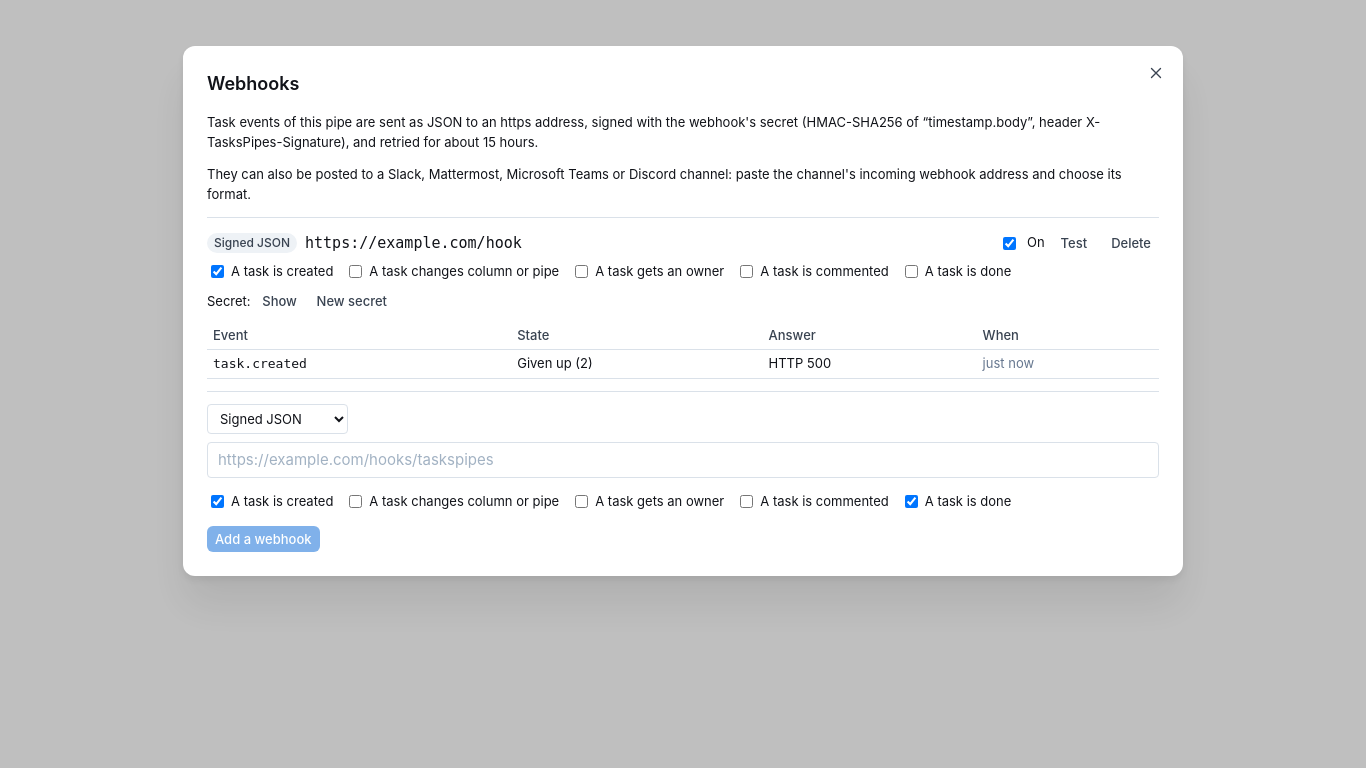
Scenario: webhooks of a pipe › list their deliveries, the secret shown on request
Check: the text "https://example.com/hook" is shown, box [305, 234, 522, 252]
Check: the text "Given up (2)" is shown, box [511, 350, 763, 378]
Click the button "Show" at coordinates (280, 301), box [254, 288, 305, 314]
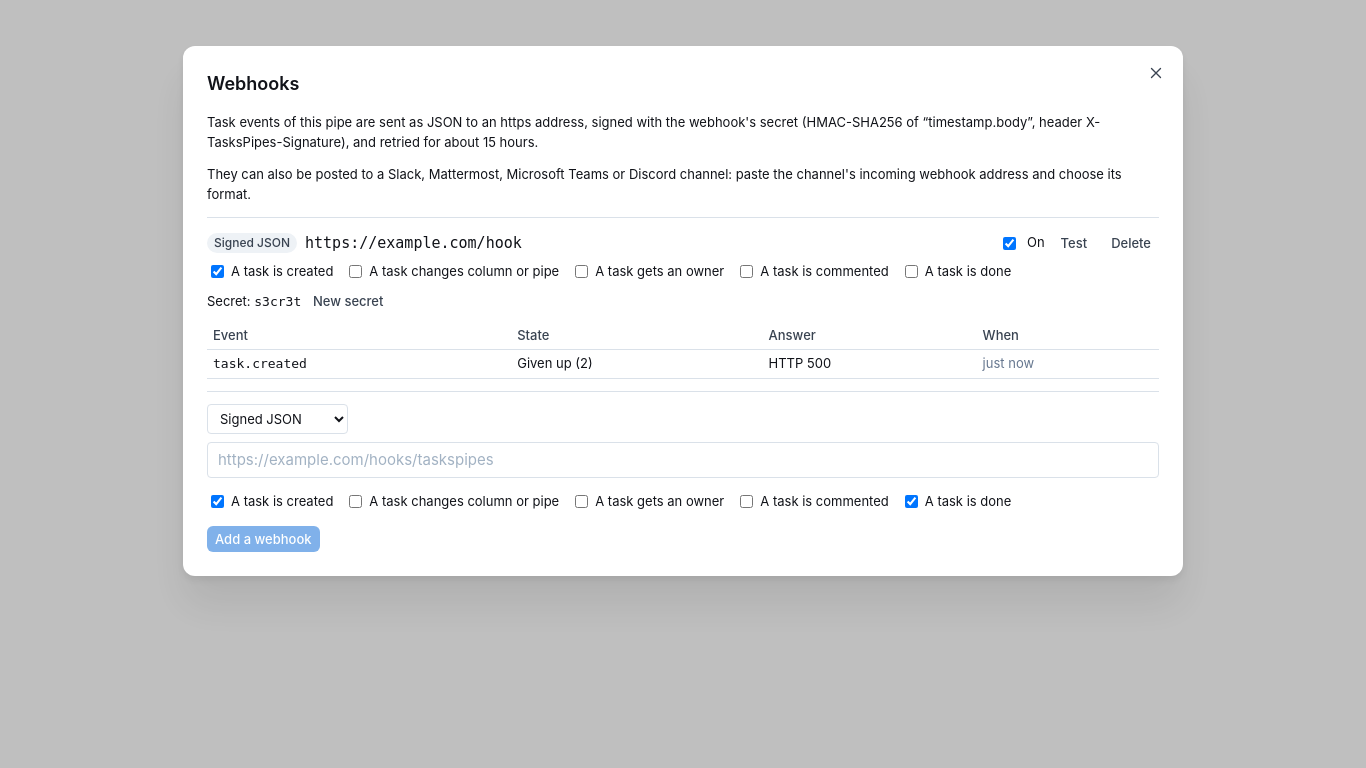
Check: the text "s3cr3t" is shown, box [254, 294, 301, 309]
